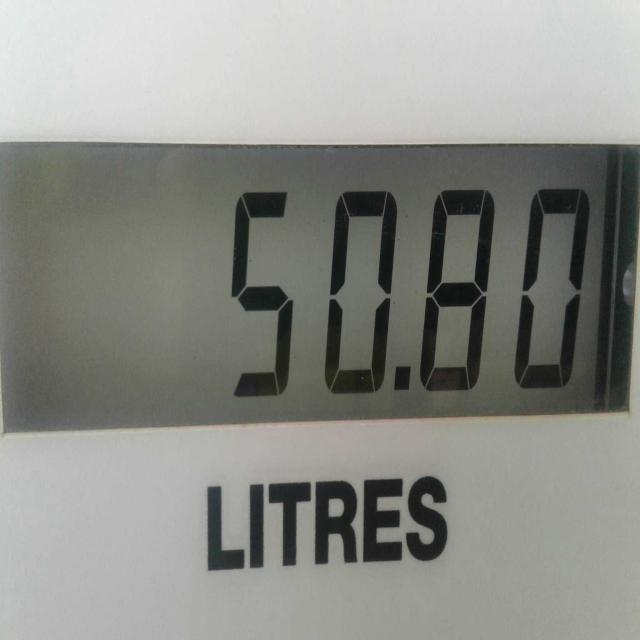.: (388, 354, 421, 412)
0: (512, 180, 602, 406), (320, 187, 401, 407)
5: (212, 185, 312, 412)
8: (418, 176, 504, 410)
